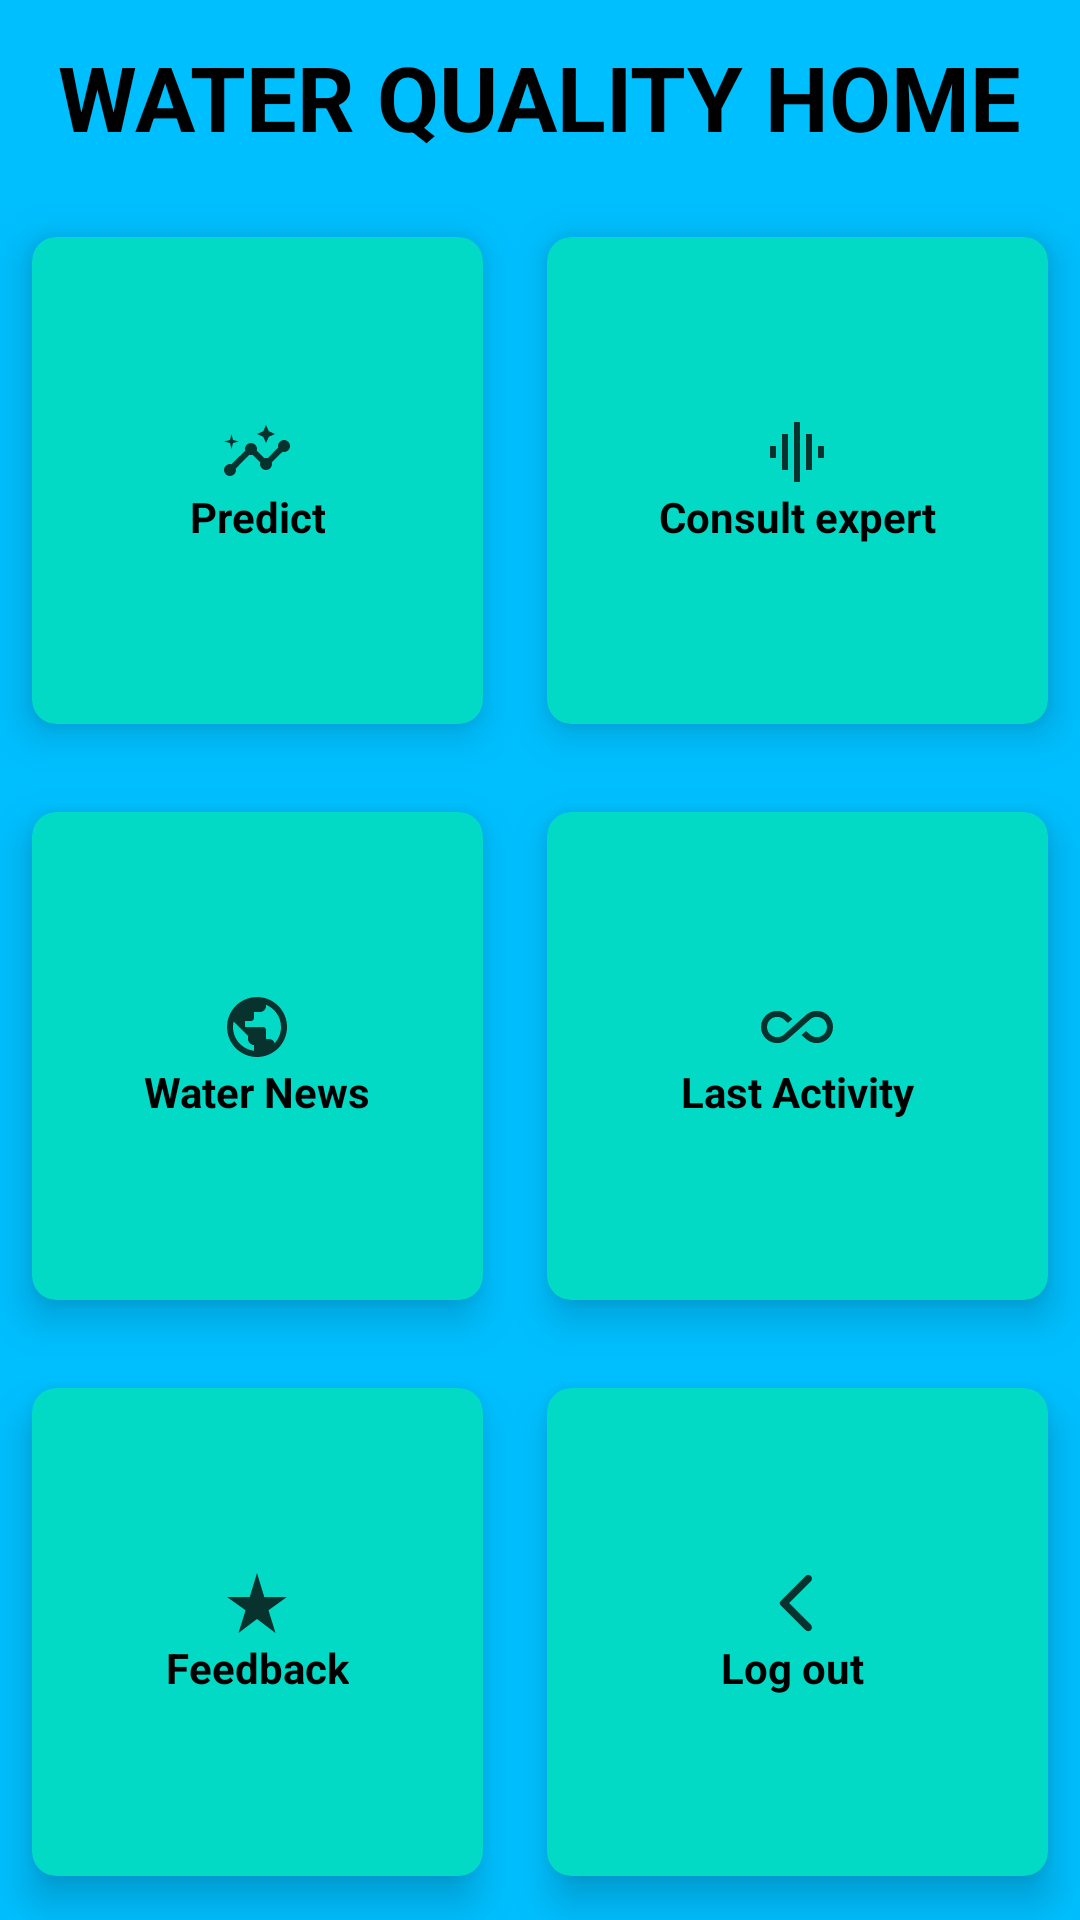

Icon bounding boxes for this 1080px x 1920px phone screenshot, format box=[x1, y1, x2, y2]:
all inclusive: box=[761, 1011, 833, 1043]
arrow back: box=[779, 1575, 812, 1631]
graphic eq: box=[770, 422, 824, 482]
insights: box=[224, 425, 290, 476]
public: box=[227, 997, 287, 1057]
star rate: box=[227, 1573, 287, 1633]
